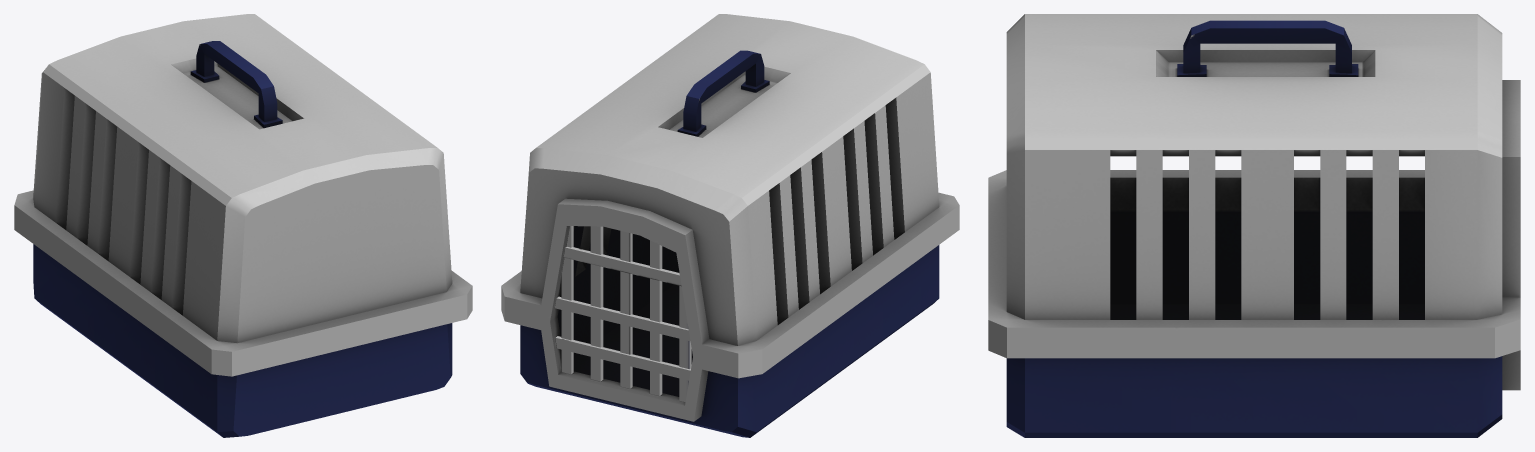
File: petcarrier.fbx
3 views of the same model, side by side, from view 1: azimuth 30°, elevation 25°; view 2: azimuth 150°, elevation 25°; view 3: azimuth 270°, elevation 25° (orthographic). The views are drawn at different scales.
Parts seen in each view (by area): view 1: petcarrier; view 2: petcarrier; view 3: petcarrier.
Boxes of the visible parts, x1,y1,x2,y2 form: petcarrier: [14, 14, 472, 437]; petcarrier: [501, 14, 959, 437]; petcarrier: [988, 14, 1520, 437].
Bounding box in the file's own units: 0.6193 × 0.6365 × 0.8835.
